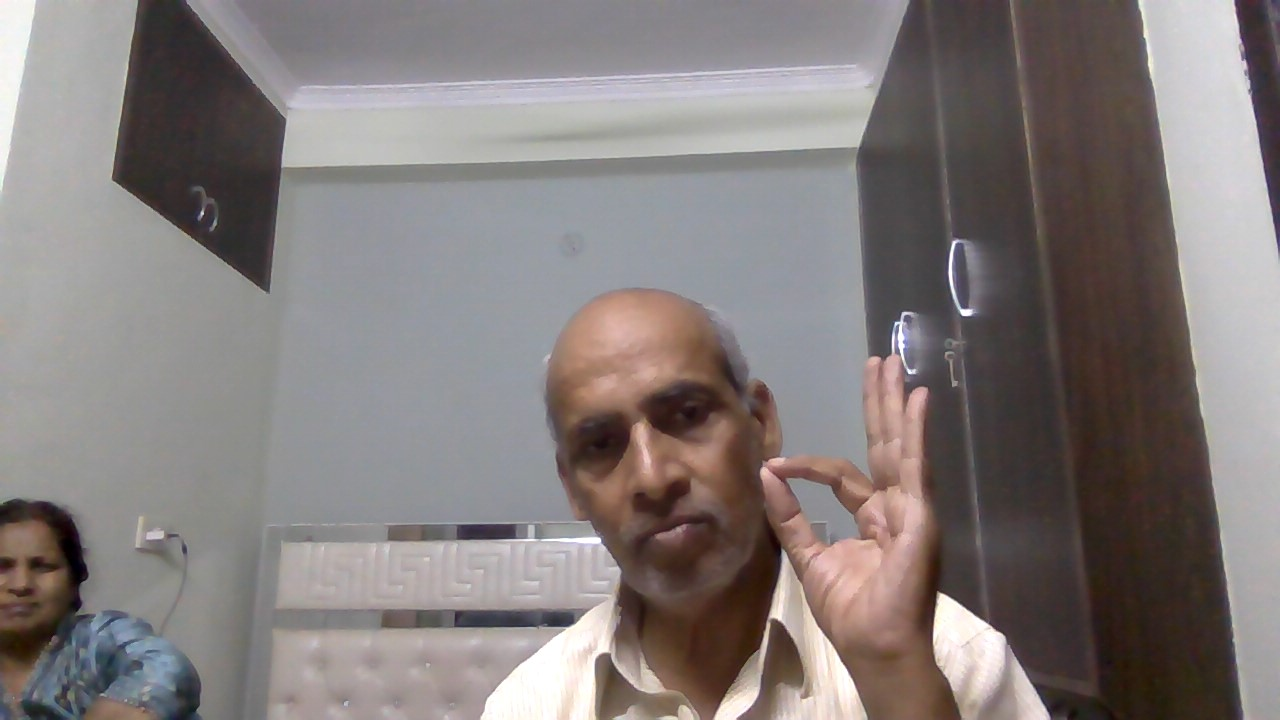Copy: (747, 352, 1000, 680)
